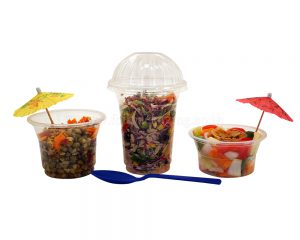plastic_glass: (104, 44, 189, 181), (26, 106, 109, 180), (187, 117, 272, 180)
